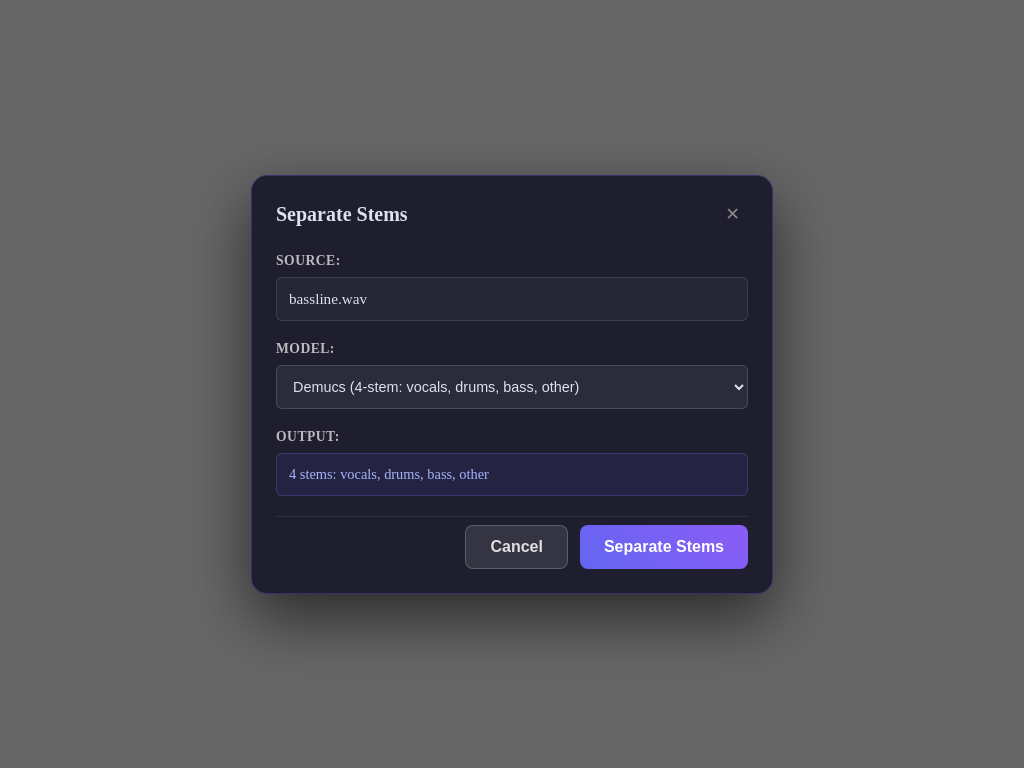
Test: StemSeparationModal — separation flow › shows progress indicator during separation
The image size is (1024, 768).
What coordinates should you click on to do the following:
click the button "Separate Stems"
I would click on:
 (664, 546)
Its box is [580, 524, 748, 568].
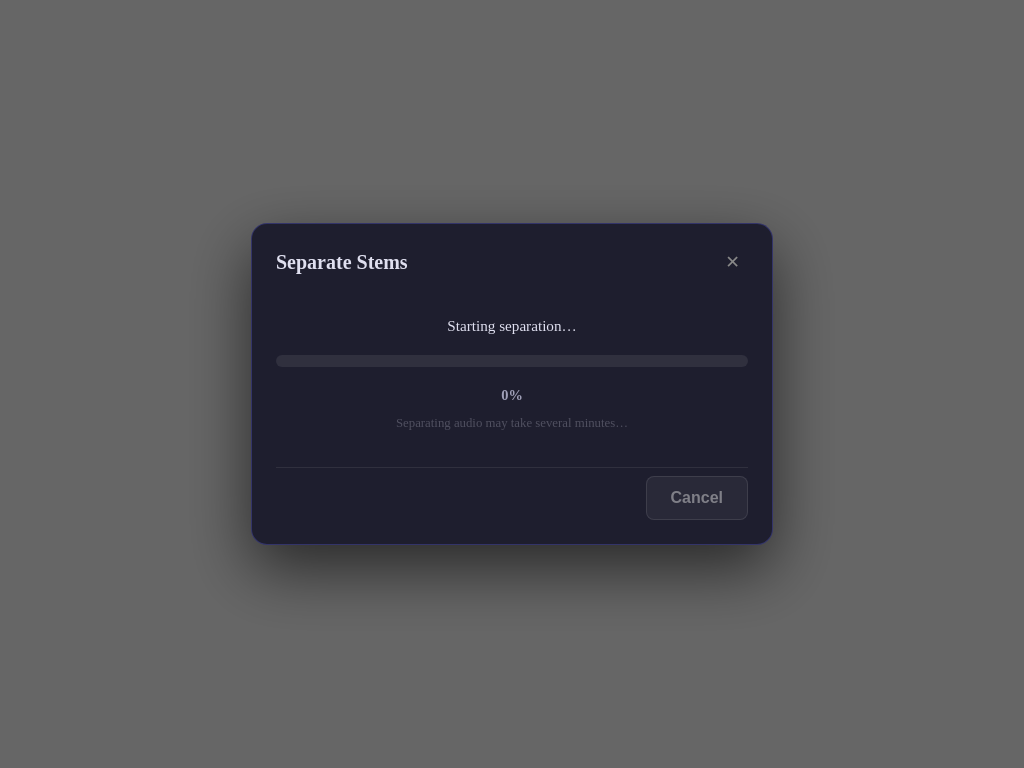
Expected: the text "Separating" is shown, [396, 416, 628, 430]
